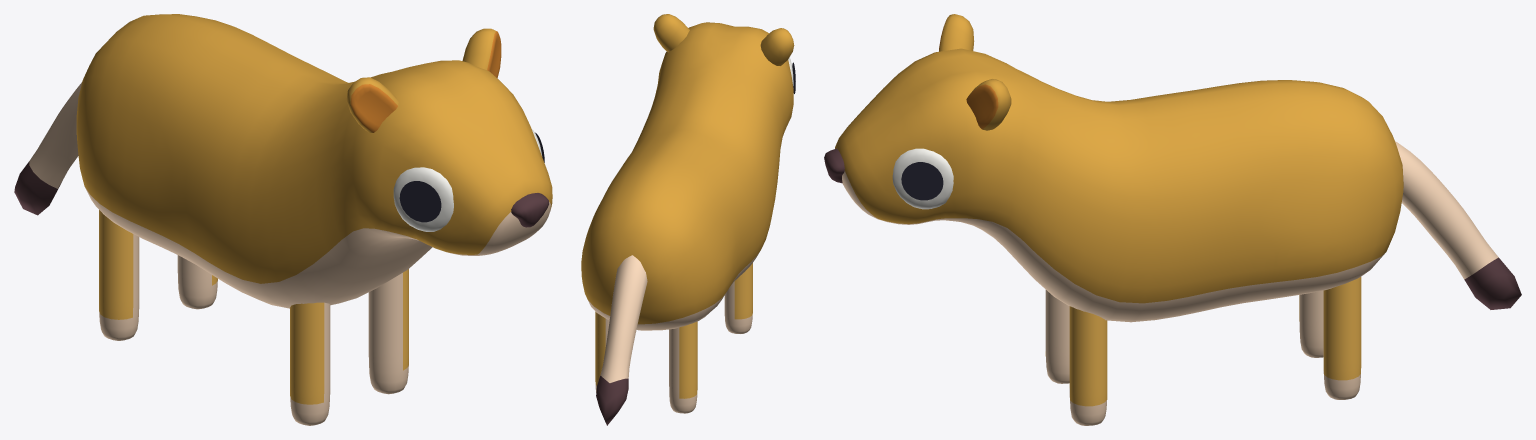
File: Lioness.glb
3 renders of one model, left to right at view 1: azimuth 30°, elevation 25°; view 2: azimuth 150°, elevation 25°; view 3: azimuth 270°, elevation 25°, orthographic. The views are drawn at different scales.
Parts seen in each view (by area): view 1: Lioness; view 2: Lioness; view 3: Lioness.
Part boxes in pixels (left/top/right/bottom): Lioness: left=14, top=14, right=552, bottom=425; Lioness: left=581, top=14, right=795, bottom=425; Lioness: left=824, top=14, right=1521, bottom=425.
Size of the model in its own units: 1.36 by 2.03 by 3.53.
1 material, 1 textured.
